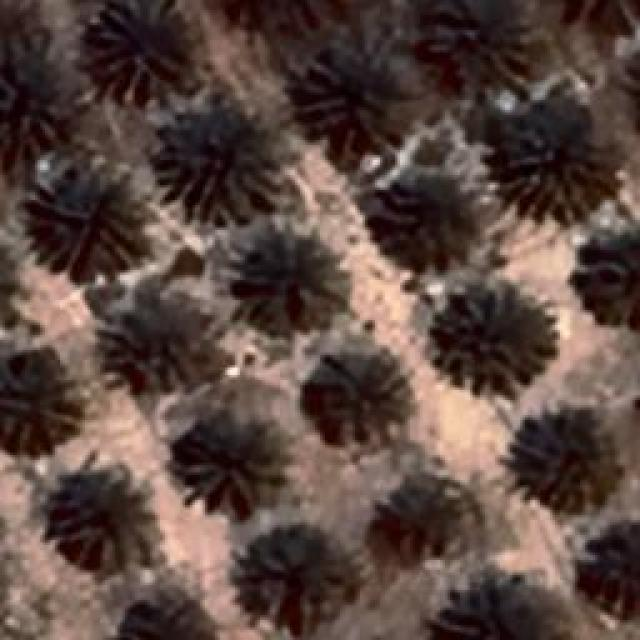PalmTree: (430, 280, 552, 400), (232, 522, 358, 636), (38, 160, 152, 278), (157, 122, 280, 228), (505, 405, 620, 513), (298, 348, 412, 450), (170, 417, 285, 515), (49, 478, 159, 568), (498, 128, 602, 222), (432, 0, 536, 90), (88, 0, 182, 95), (0, 17, 66, 151), (306, 54, 399, 148), (240, 236, 342, 316), (378, 175, 470, 258), (106, 295, 192, 383), (372, 474, 468, 552), (445, 582, 570, 640), (0, 357, 72, 450), (587, 519, 640, 619), (585, 225, 640, 320), (214, 0, 344, 40), (110, 602, 210, 640), (553, 0, 640, 36), (0, 242, 22, 335)
